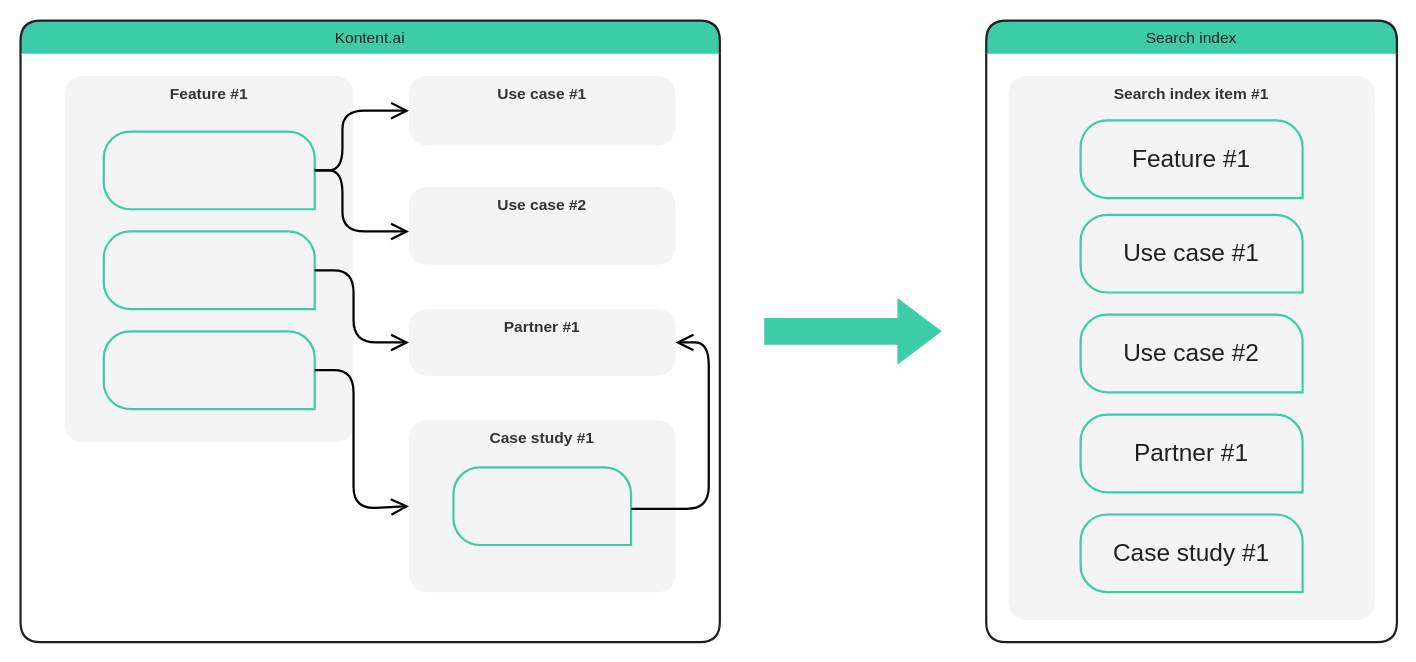
The diagram is 1416 pixels wide and 662 high, and some of its shapes have lost their labels. Here are the shapes that lost their labels. From the top down, the centre of each, then its label:
At point (208, 170): "Use cases".
At point (208, 270): "Partners".
At point (208, 370): "Case studies".
At point (542, 506): "Authors".
